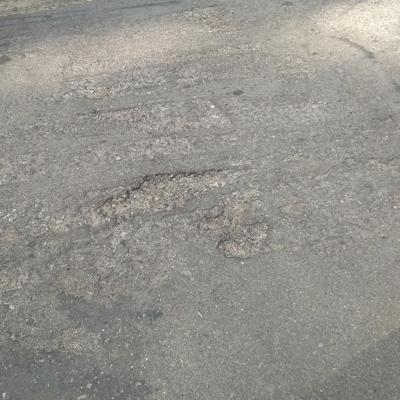Pothole: (84, 171, 283, 260)
